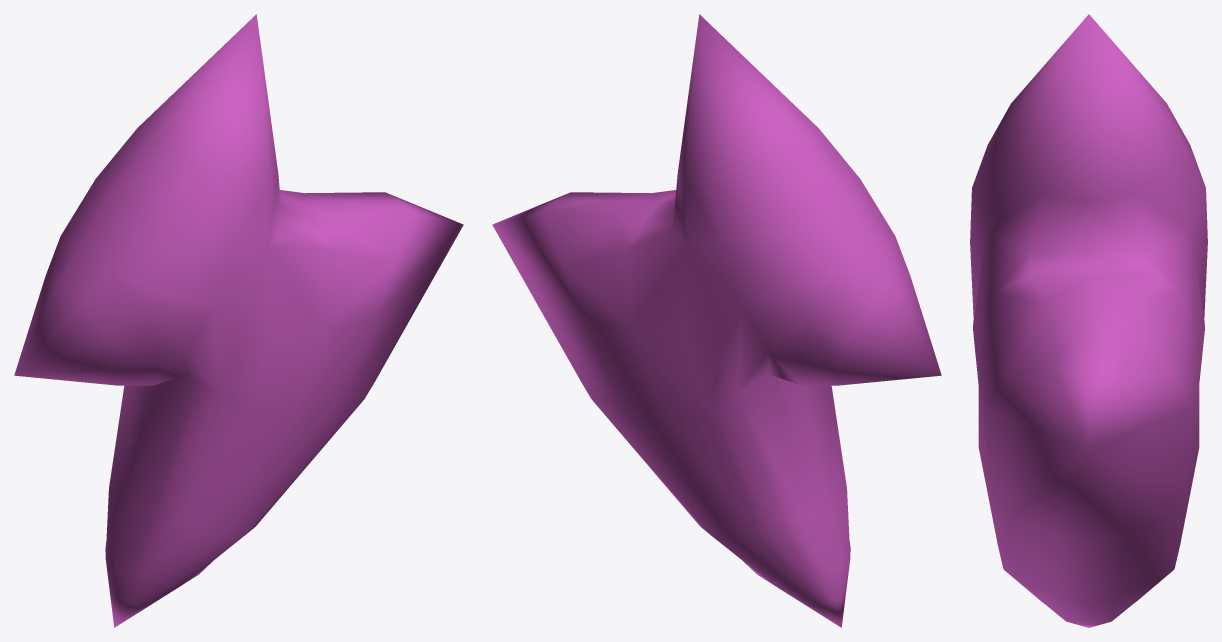
File: kaminari_tane.fbx
3 renders of one model, left to right at view 1: azimuth 30°, elevation 25°; view 2: azimuth 150°, elevation 25°; view 3: azimuth 270°, elevation 25°, orthographic. The views are drawn at different scales.
Parts seen in each view (by area): view 1: pCone5; view 2: pCone5; view 3: pCone5.
Boxes of the visible parts, bbox=[...] form: pCone5: bbox=[14, 14, 463, 627]; pCone5: bbox=[492, 14, 941, 627]; pCone5: bbox=[970, 14, 1207, 627].
Size of the model in its own units: 11.65 by 14.34 by 4.43.
